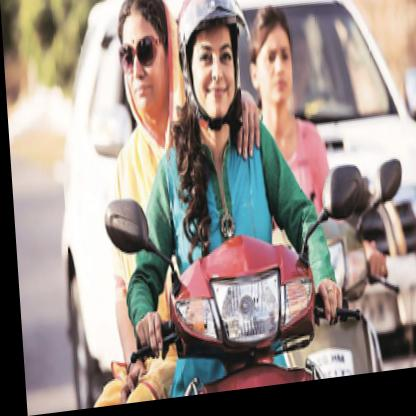With Helmet: (170, 0, 256, 153)
